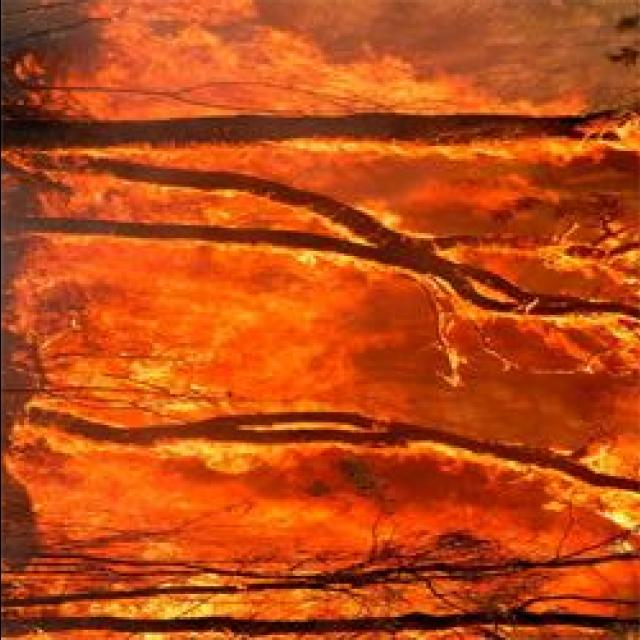fire: (130, 265, 340, 391), (32, 474, 322, 544), (208, 6, 422, 100), (94, 0, 230, 69), (44, 238, 164, 300), (35, 343, 129, 415), (401, 65, 536, 115), (19, 434, 116, 490), (160, 442, 265, 480), (586, 317, 640, 383), (587, 491, 640, 528)
